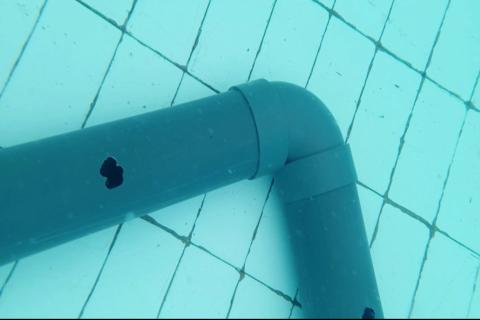kebocoran: (99, 154, 125, 191), (358, 305, 376, 319)
